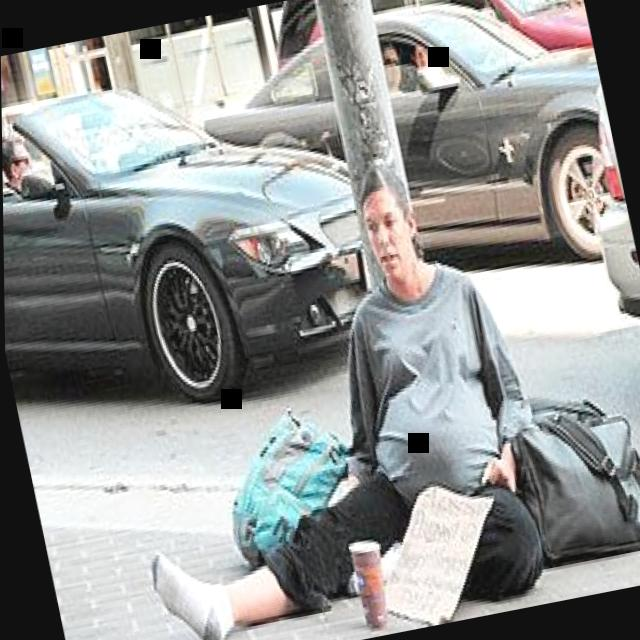Fall-Detected: (54, 124, 594, 640)
